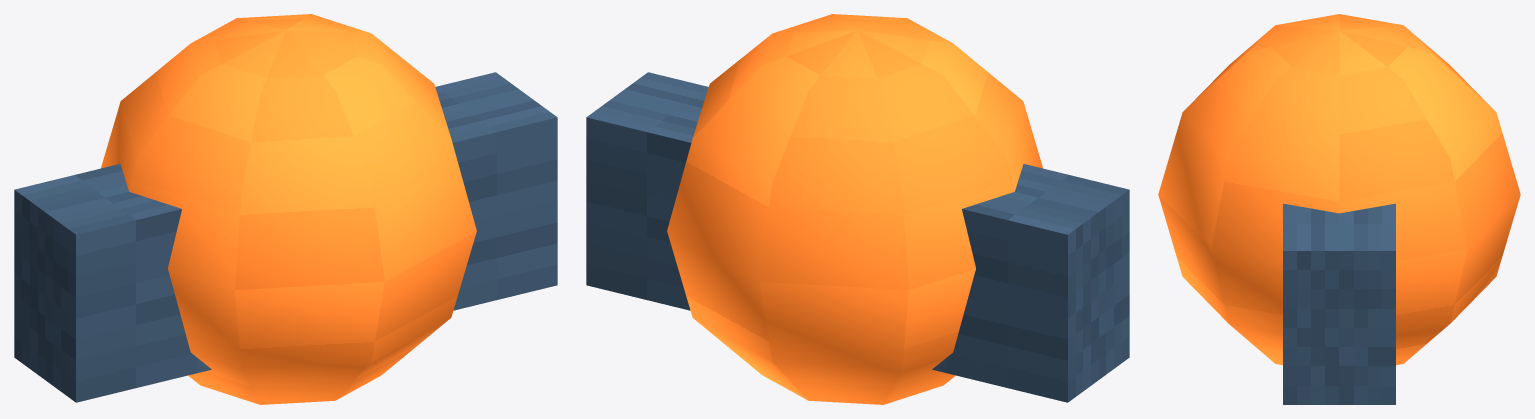
Rendered from amanecer.glb.
The picture shows the model from 3 angles, left to right: view 1: azimuth 30°, elevation 25°; view 2: azimuth 150°, elevation 25°; view 3: azimuth 270°, elevation 25°; orthographic projection. The views are drawn at different scales.
Parts seen in each view (by area): view 1: amanecer; view 2: amanecer; view 3: amanecer.
Boxes of the visible parts, box(x1,y1,x2,y2) form: amanecer: box(14, 14, 557, 404); amanecer: box(586, 14, 1129, 404); amanecer: box(1158, 14, 1520, 404).
Bounding box in the file's own units: 0.9 × 0.64 × 0.64.
Materials: 2 (2 with a texture image).
